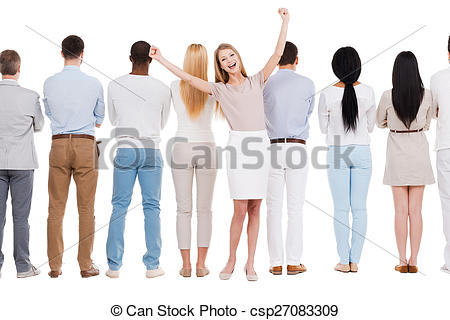person: (381, 41, 442, 174), (319, 45, 382, 155), (212, 50, 279, 144)
